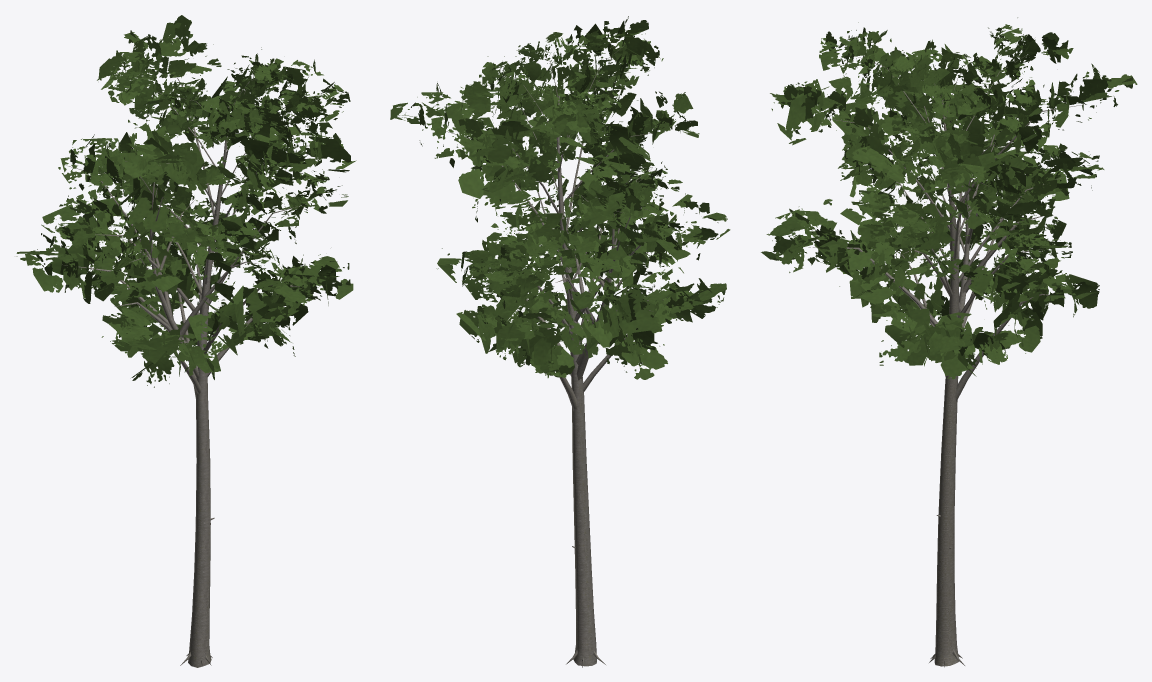
The model's file is HeroQuakingAspenLOD0.fbx.
3 renders of one model, left to right at view 1: azimuth 30°, elevation 25°; view 2: azimuth 150°, elevation 25°; view 3: azimuth 270°, elevation 25°, orthographic. The views are drawn at different scales.
Visible parts, largest first — view 1: Foliage, Bark; view 2: Foliage, Bark; view 3: Foliage, Bark.
Boxes of the visible parts, x1=… form: Foliage: x1=16, y1=15, x2=356, y2=387; Bark: x1=62, y1=63, x2=308, y2=667; Foliage: x1=390, y1=16, x2=730, y2=379; Bark: x1=446, y1=45, x2=682, y2=667; Foliage: x1=761, y1=17, x2=1137, y2=379; Bark: x1=808, y1=55, x2=1083, y2=667.
Size of the model in its own units: 10.32 by 18.91 by 10.22.
